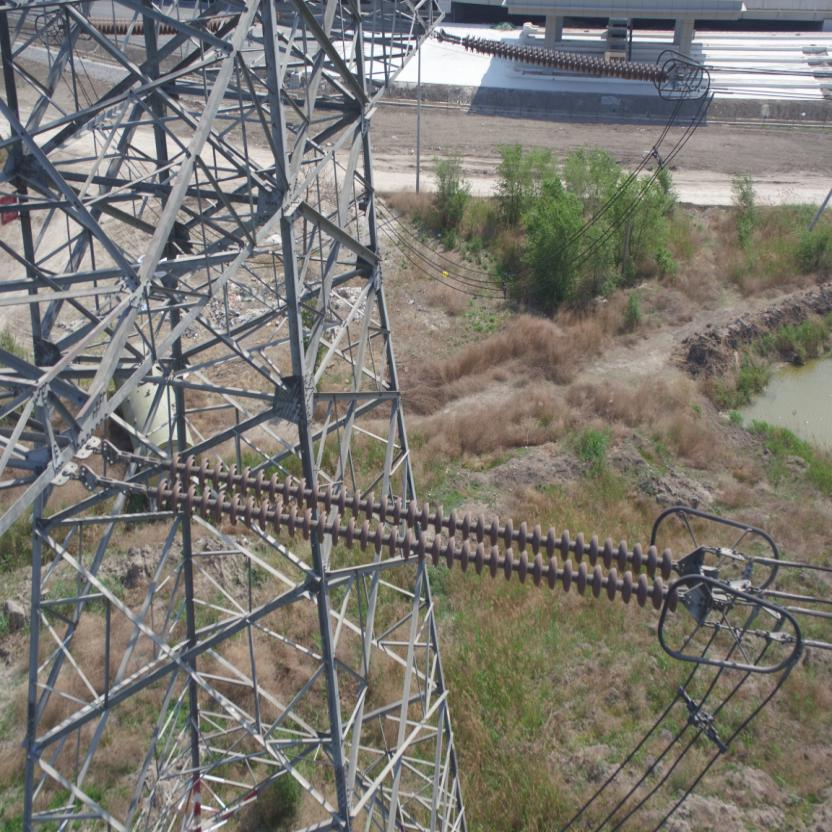insulator: (124, 450, 694, 614)
